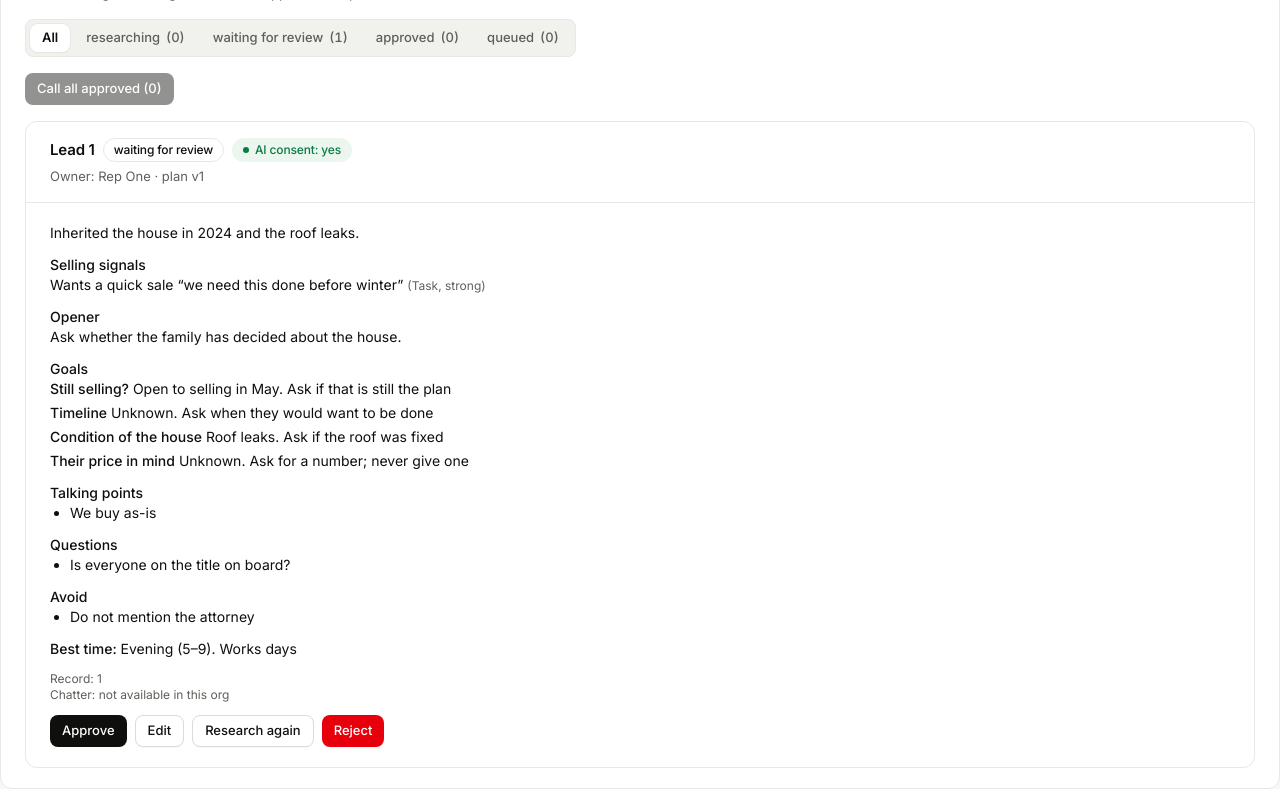
Test: CallPlanBoard › 4: Approve posts the version that was read; a 409 PLAN_CHANGED shows its message and reads the board again
This screenshot has width=1280, height=789.
(page scrolled)
Click the button "Approve" at (88, 731), box [50,715,126,747]
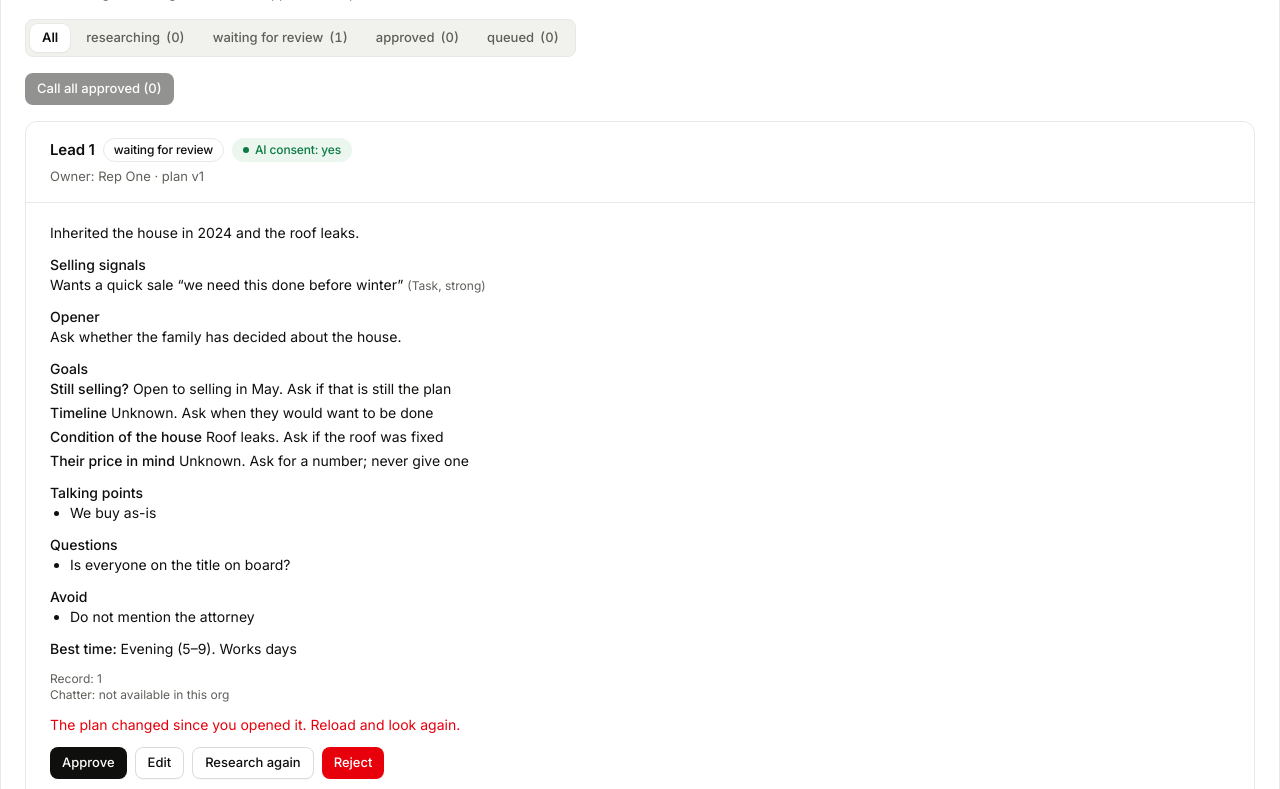
Result: the text "The plan changed since you opened it. Reload and look again." is shown at [50,716,460,733]
